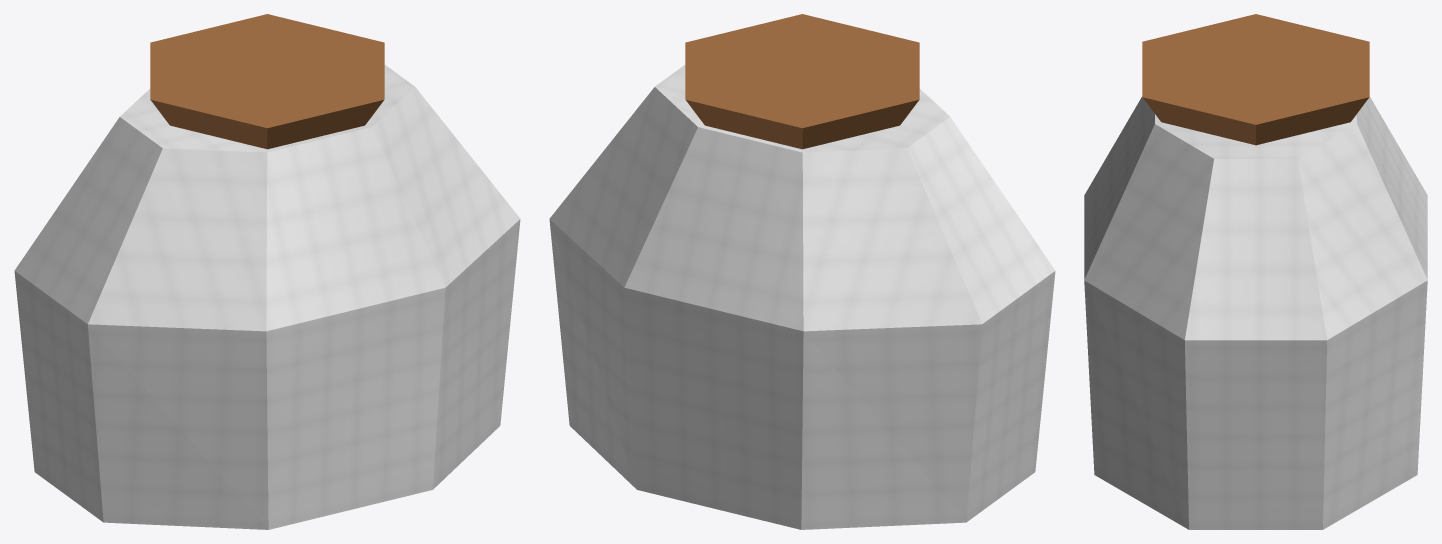
Rendered from meal_kibble.obj.
The picture shows the model from 3 angles, left to right: view 1: azimuth 30°, elevation 25°; view 2: azimuth 150°, elevation 25°; view 3: azimuth 270°, elevation 25°; orthographic projection. The views are drawn at different scales.
Visible parts, largest first — view 1: meal_kibble; view 2: meal_kibble; view 3: meal_kibble.
Part boxes in pixels (x1,y1,x2,y2): meal_kibble: (14,14,520,529); meal_kibble: (549,14,1055,529); meal_kibble: (1084,14,1427,529).
Size of the model in its own units: 0.4434 by 0.37 by 0.3142.
